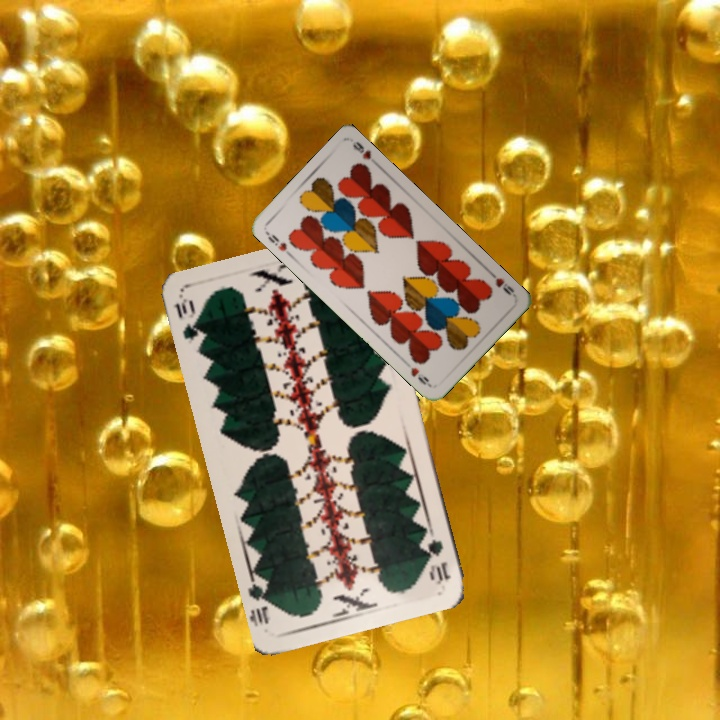G10: (421, 527, 454, 587), (170, 294, 204, 342)
H9: (485, 267, 517, 298), (264, 230, 295, 260)
